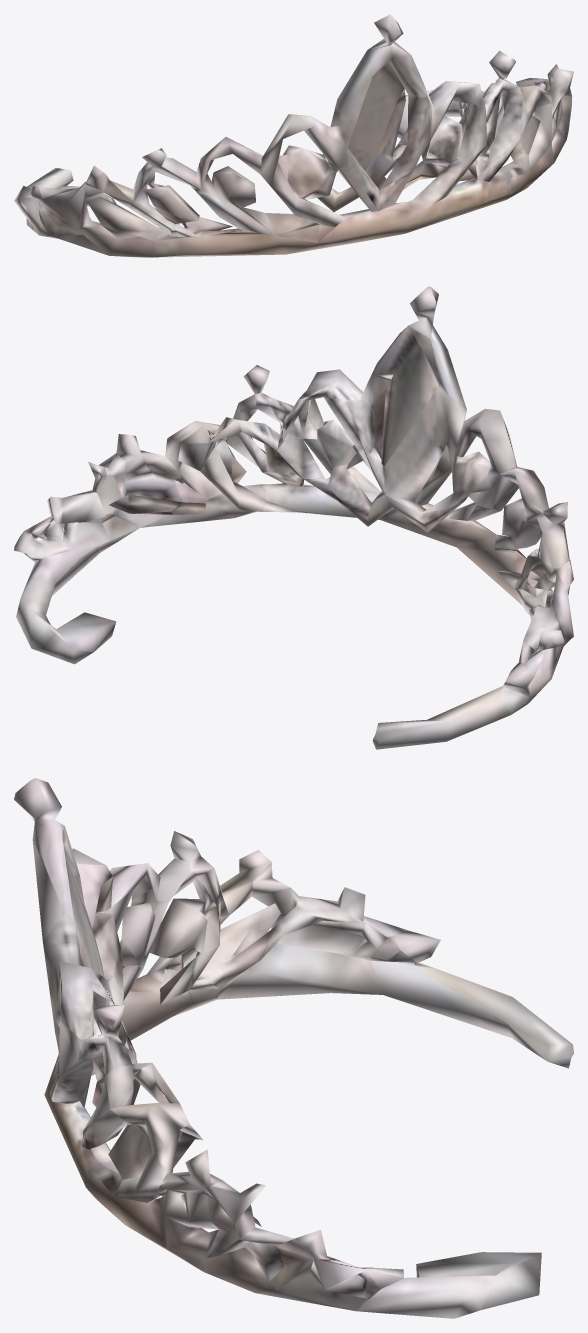
The picture shows the model from 3 angles, top to bottom: view 1: azimuth 30°, elevation 25°; view 2: azimuth 150°, elevation 25°; view 3: azimuth 270°, elevation 25°; orthographic projection. The views are drawn at different scales.
Visible parts, largest first — view 1: Silver-Tiara-23; view 2: Silver-Tiara-23; view 3: Silver-Tiara-23.
Part boxes in pixels (x1,y1,x2,y2): Silver-Tiara-23: (14,14,573,257); Silver-Tiara-23: (14,286,573,749); Silver-Tiara-23: (14,778,573,1318).
Size of the model in its own units: 0.335 by 0.1729 by 0.2225.
Materials: 1 (1 with a texture image).
